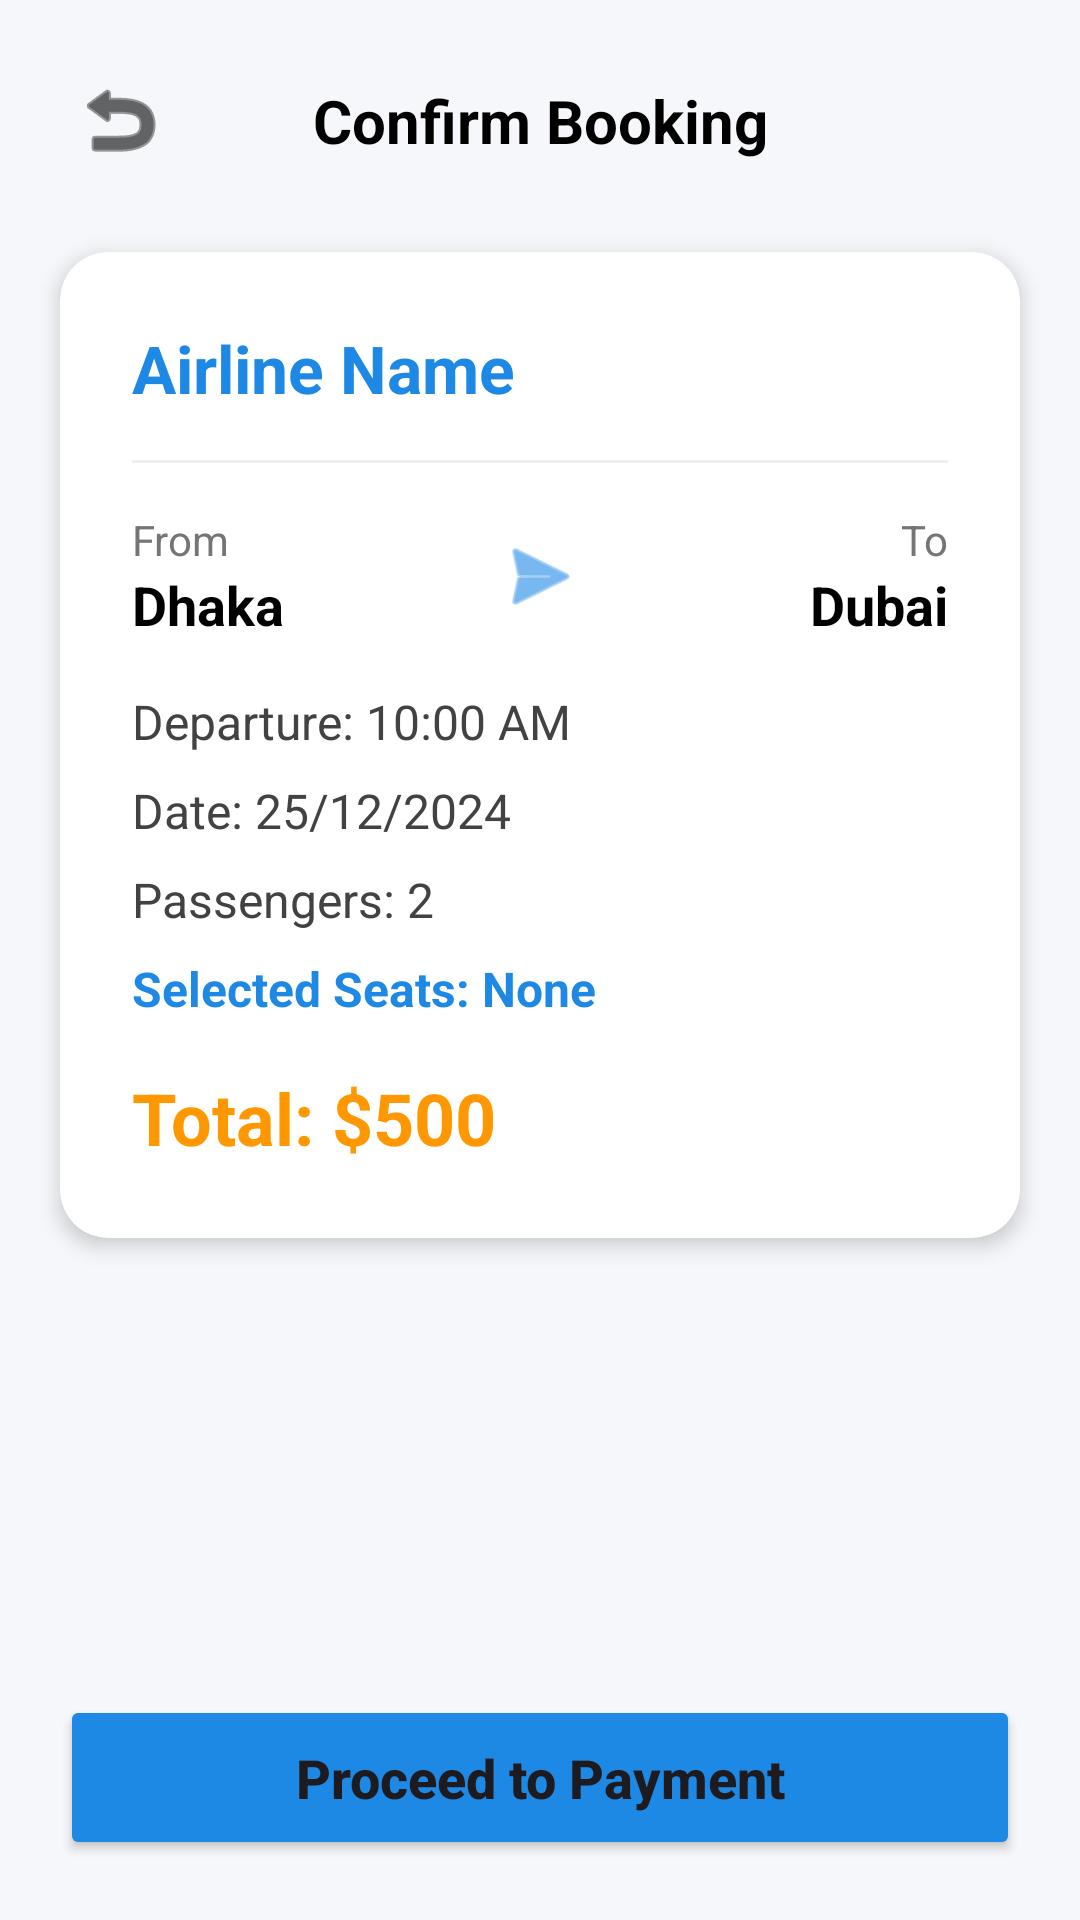

Icons on this 1080×1920 Android screen, each with its box as (x1, y1, x2, y2):
Back: (87, 89, 156, 152)
send: (512, 548, 570, 605)
